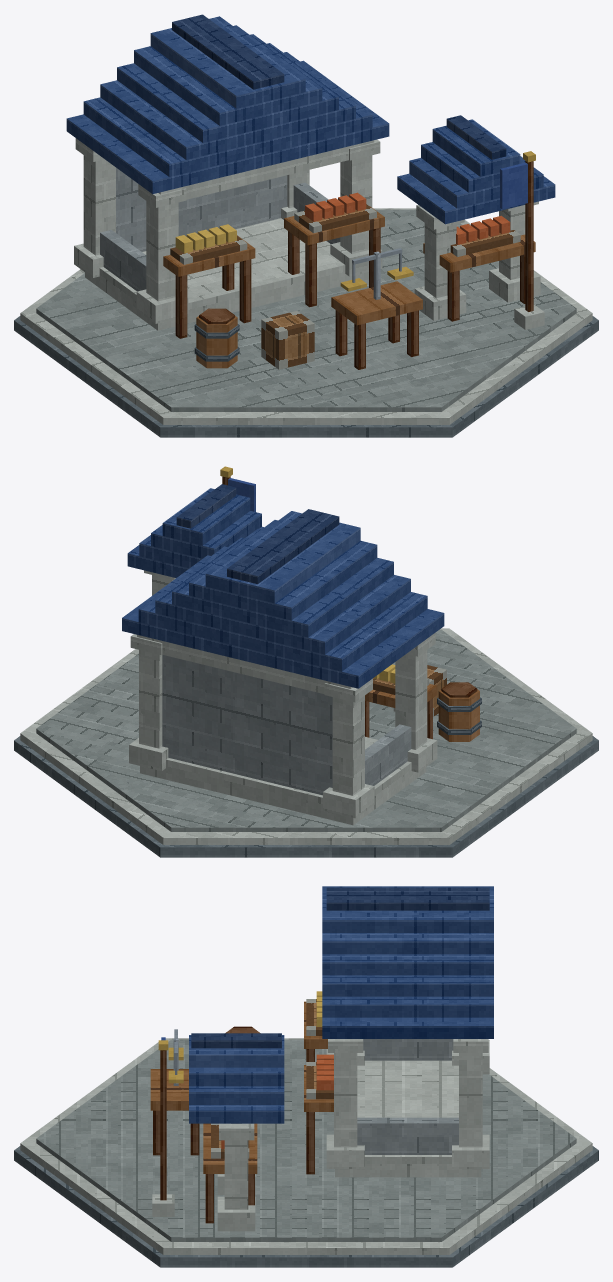
Rendered from market_hex_v1.glb.
3 views of the same model, one above another, from view 1: azimuth 30°, elevation 25°; view 2: azimuth 150°, elevation 25°; view 3: azimuth 270°, elevation 25° (orthographic).
Parts seen in each view (by area): view 1: Human_Market_Hex_V1_Foundation, Human_Market_Hex_V1_Roofs, Human_Market_Hex_V1_Details, Human_Market_Hex_V1_Structure, Human_Market_Hex_V1_Hall, Human_Market_Hex_V1_Faction; view 2: Human_Market_Hex_V1_Foundation, Human_Market_Hex_V1_Roofs, Human_Market_Hex_V1_Hall, Human_Market_Hex_V1_Structure, Human_Market_Hex_V1_Details; view 3: Human_Market_Hex_V1_Foundation, Human_Market_Hex_V1_Roofs, Human_Market_Hex_V1_Hall, Human_Market_Hex_V1_Structure, Human_Market_Hex_V1_Details.
Part boxes in pixels (x1,y1,x2,y2): Human_Market_Hex_V1_Foundation: [14, 208, 598, 437]; Human_Market_Hex_V1_Roofs: [66, 14, 555, 224]; Human_Market_Hex_V1_Details: [163, 151, 544, 369]; Human_Market_Hex_V1_Structure: [74, 138, 540, 323]; Human_Market_Hex_V1_Hall: [85, 167, 368, 330]; Human_Market_Hex_V1_Faction: [500, 162, 527, 209]; Human_Market_Hex_V1_Foundation: [14, 628, 598, 857]; Human_Market_Hex_V1_Roofs: [122, 484, 444, 688]; Human_Market_Hex_V1_Hall: [140, 654, 426, 825]; Human_Market_Hex_V1_Structure: [129, 570, 437, 818]; Human_Market_Hex_V1_Details: [220, 466, 481, 741]; Human_Market_Hex_V1_Foundation: [14, 1038, 598, 1267]; Human_Market_Hex_V1_Roofs: [189, 886, 493, 1123]; Human_Market_Hex_V1_Hall: [335, 1039, 481, 1177]; Human_Market_Hex_V1_Structure: [217, 1039, 489, 1231]; Human_Market_Hex_V1_Details: [150, 991, 333, 1223].
Bounding box in the file's own units: 1.59 × 0.874 × 1.84.
Materials: 1 (1 with a texture image).
